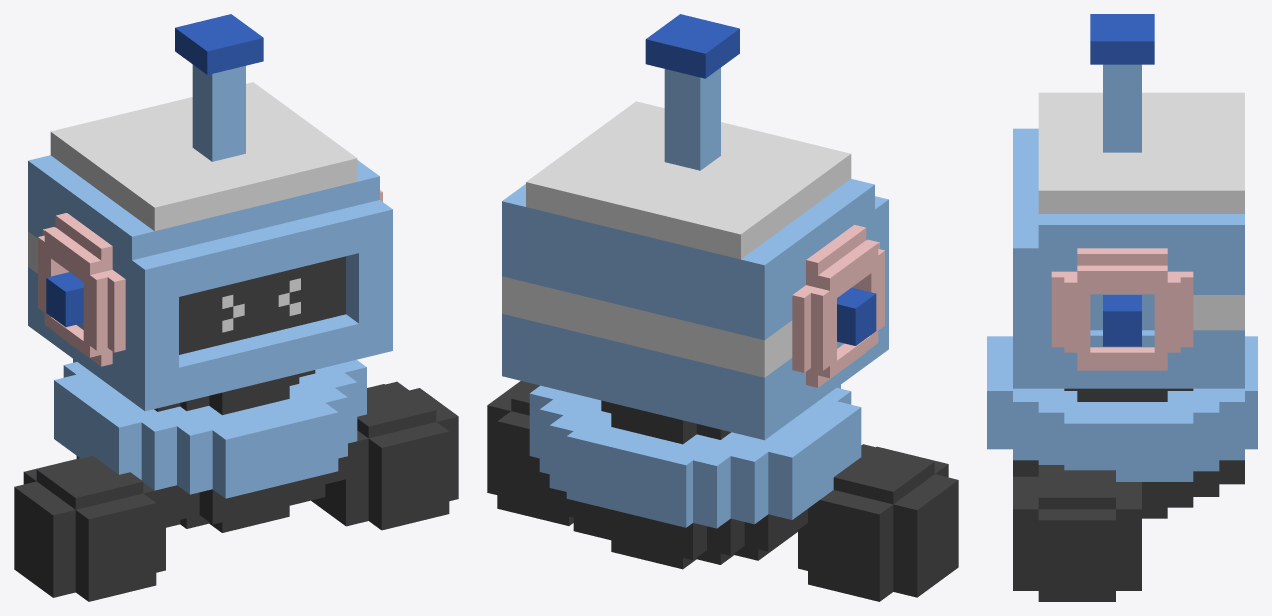
Rendered from robot.glb.
The picture shows the model from 3 angles, left to right: view 1: azimuth 30°, elevation 25°; view 2: azimuth 150°, elevation 25°; view 3: azimuth 270°, elevation 25°; orthographic projection. The views are drawn at different scales.
Visible parts, largest first — view 1: robot-0; view 2: robot-0; view 3: robot-0.
Part boxes in pixels (x1,y1,x2,y2): robot-0: [14, 14, 458, 601]; robot-0: [487, 14, 958, 601]; robot-0: [987, 14, 1257, 601].
Size of the model in its own units: 3.6 by 4.1 by 2.1.
1 material, 1 textured.
